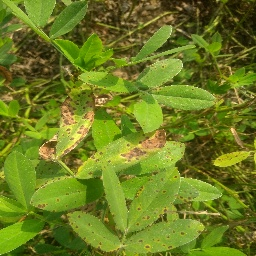GroundNut_Leaf: (77, 131, 169, 177), (128, 166, 181, 226), (53, 87, 93, 161), (125, 220, 205, 256), (30, 175, 105, 211), (66, 214, 122, 254), (1, 219, 48, 251), (136, 57, 186, 86), (52, 2, 90, 38), (138, 23, 175, 57), (134, 93, 165, 133), (78, 70, 135, 90), (26, 1, 50, 37), (213, 150, 255, 166)
